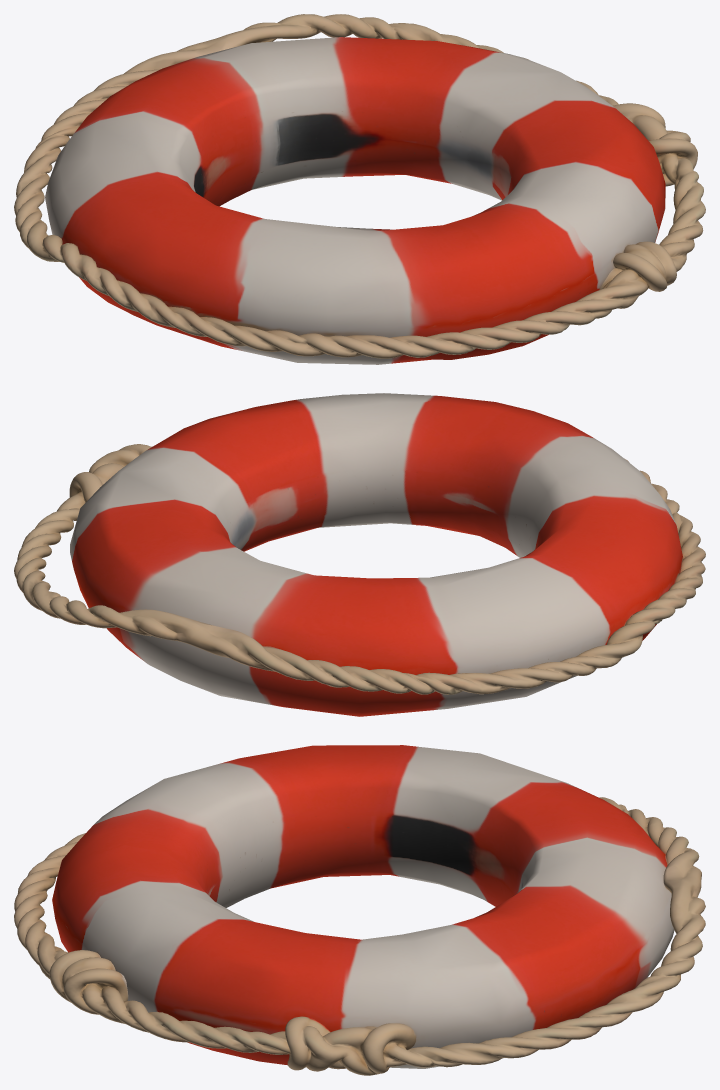
File: BashieRing.fbx
3 views of the same model, one above another, from view 1: azimuth 30°, elevation 25°; view 2: azimuth 150°, elevation 25°; view 3: azimuth 270°, elevation 25° (orthographic). The views are drawn at different scales.
Parts seen in each view (by area): view 1: BashieRing; view 2: BashieRing; view 3: BashieRing.
Part boxes in pixels (x1,y1,x2,y2): BashieRing: (14, 14, 705, 364); BashieRing: (14, 393, 705, 716); BashieRing: (14, 745, 705, 1075).
Bounding box in the file's own units: 66 × 13 × 65.55.
